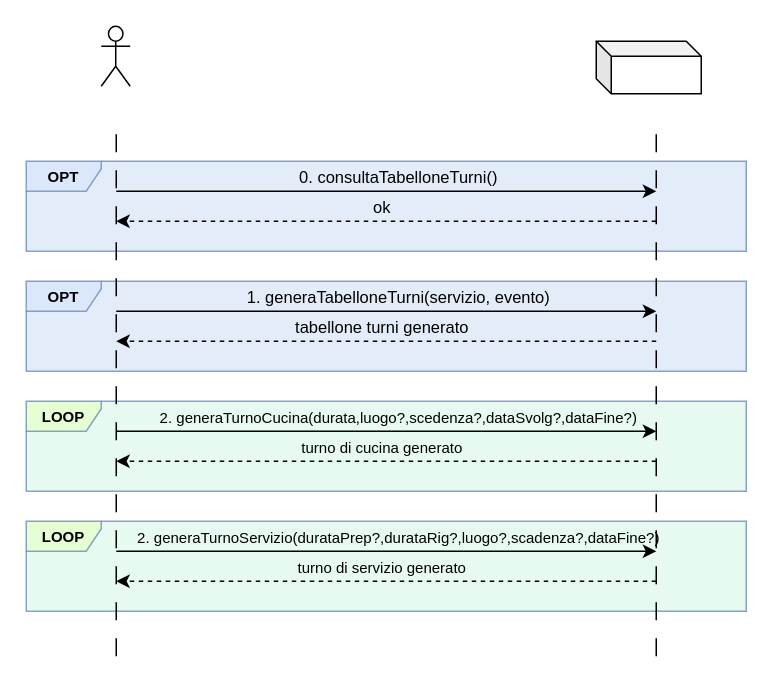
Some shapes in this 773 by 684 pixel diagram are drawn without their labels. Each missing label, with the box of its shape:
Attore: (100, 25, 130, 86)
Sistema: (595, 40, 701, 94)
